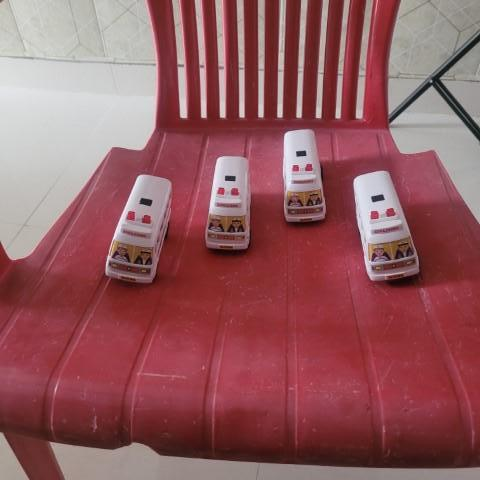ambulance: (348, 166, 425, 285), (103, 169, 176, 289), (203, 153, 254, 251), (280, 126, 329, 225)
